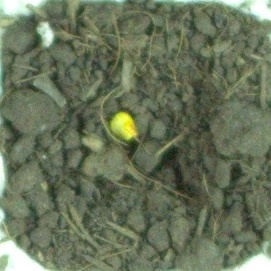pepper seed: (38, 39, 176, 182)
